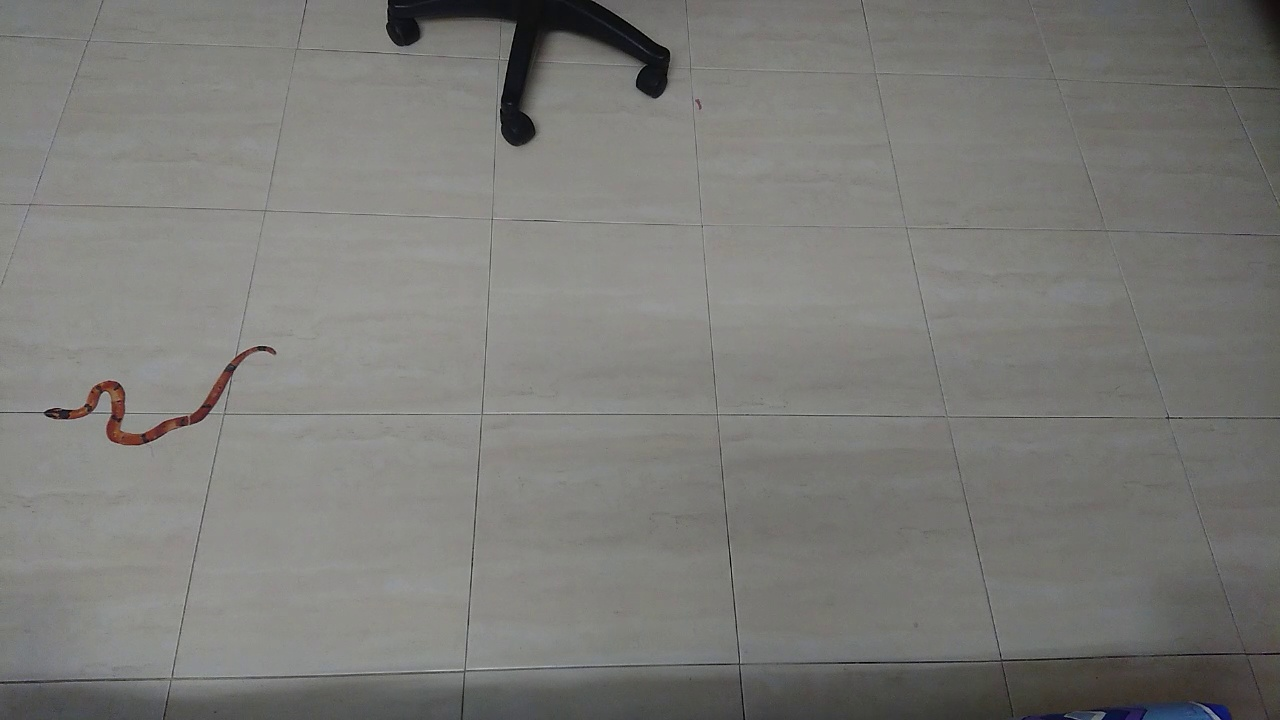snake: (29, 327, 308, 465)
